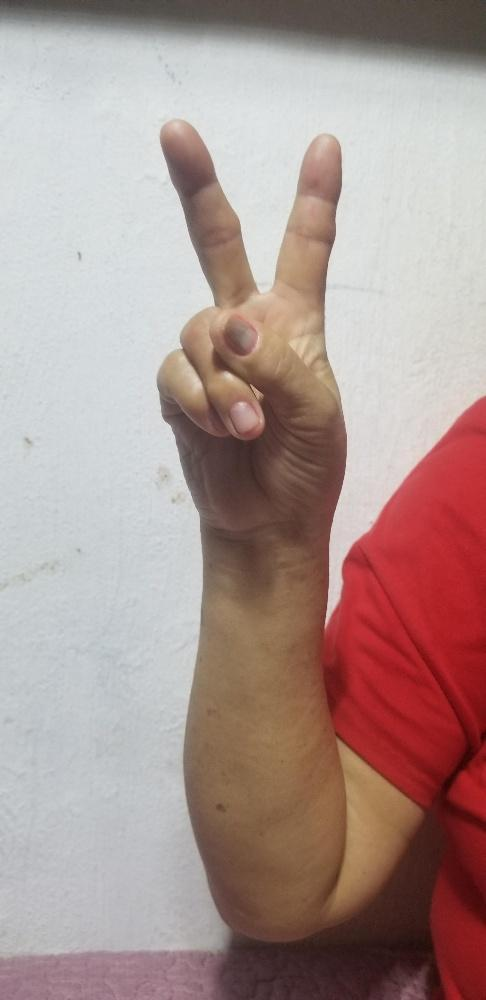v: (154, 116, 348, 470)
